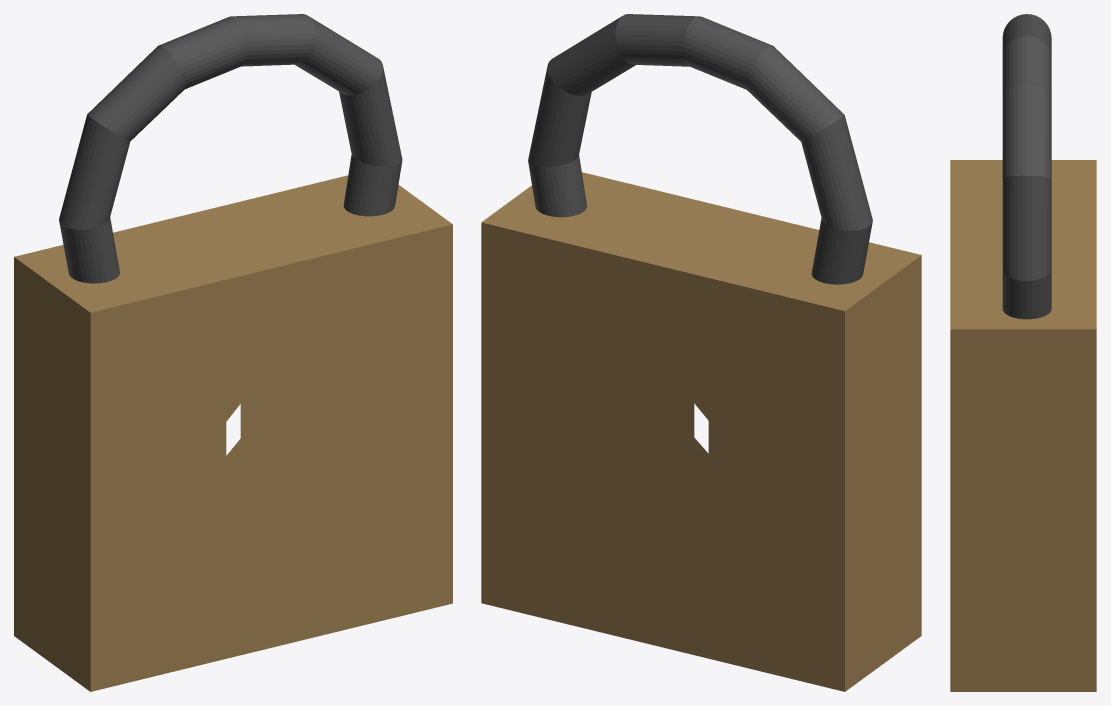
Rendered from lock.fbx.
3 views of the same model, side by side, from view 1: azimuth 30°, elevation 25°; view 2: azimuth 150°, elevation 25°; view 3: azimuth 270°, elevation 25° (orthographic). The views are drawn at different scales.
Visible parts, largest first — view 1: Cube, Cylinder; view 2: Cube, Cylinder; view 3: Cube, Cylinder.
Boxes of the visible parts, <box> form: Cube: <box>14,175,452,691</box>; Cylinder: <box>59,14,402,283</box>; Cube: <box>481,172,921,691</box>; Cylinder: <box>528,14,872,284</box>; Cube: <box>950,160,1096,691</box>; Cylinder: <box>1002,14,1051,319</box>.
Bounding box in the file's own units: 2 × 3.16 × 0.7306.
